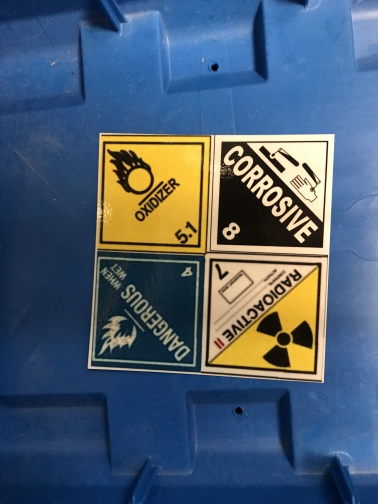Corrosive: (213, 133, 334, 255)
DangerousWhenWet: (91, 254, 204, 372)
Oxidizer: (96, 135, 212, 254)
Radioactive: (200, 252, 330, 382)
